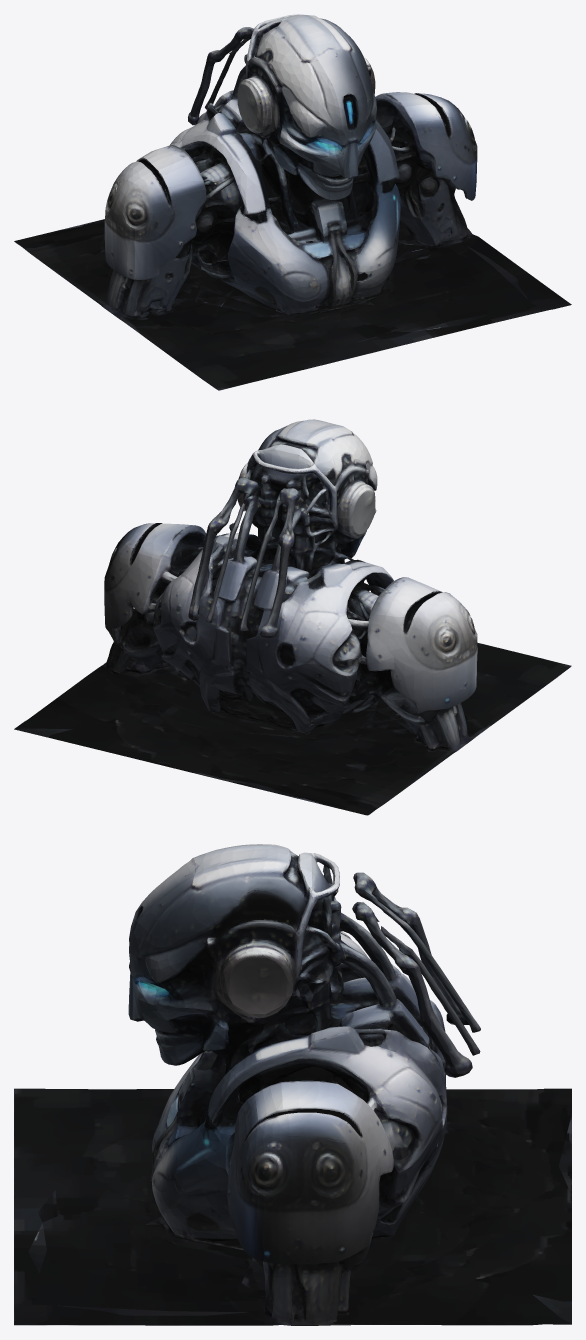
3 views of the same model, one above another, from view 1: azimuth 30°, elevation 25°; view 2: azimuth 150°, elevation 25°; view 3: azimuth 270°, elevation 25° (orthographic). The views are drawn at different scales.
Parts seen in each view (by area): view 1: world; view 2: world; view 3: world.
Part boxes in pixels (x1,y1,x2,y2): world: [14, 14, 571, 390]; world: [14, 419, 571, 815]; world: [14, 844, 571, 1325].
Size of the model in its own units: 1 by 0.7119 by 1.
Materials: 1 (1 with a texture image).
